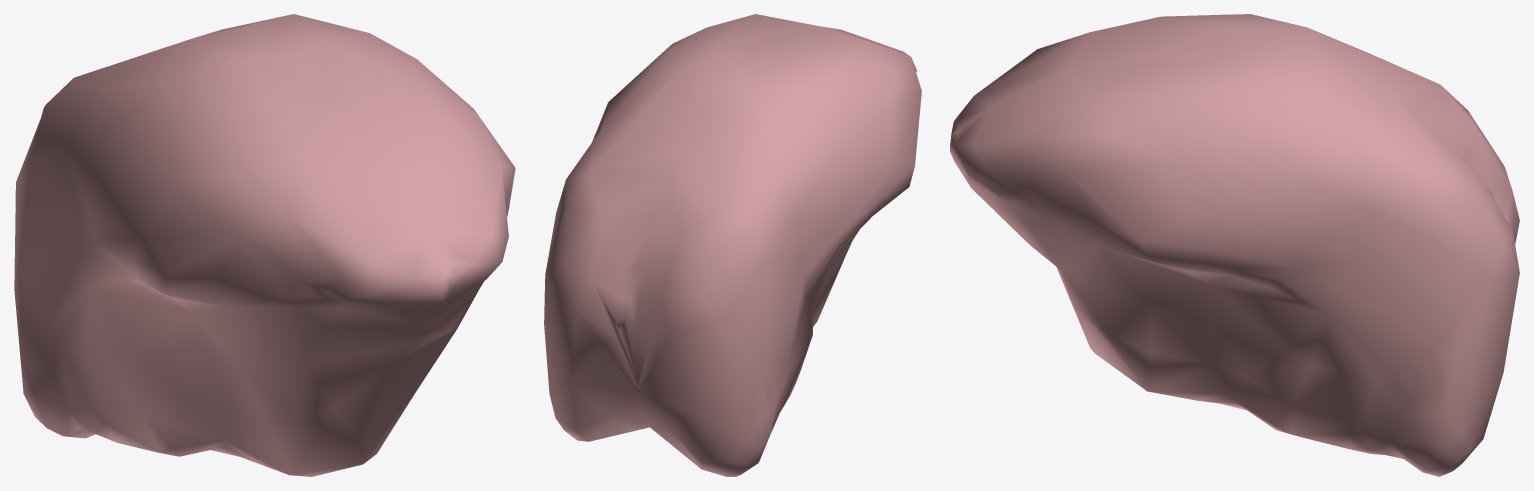
The picture shows the model from 3 angles, left to right: view 1: azimuth 30°, elevation 25°; view 2: azimuth 150°, elevation 25°; view 3: azimuth 270°, elevation 25°; orthographic projection. The views are drawn at different scales.
Parts seen in each view (by area): view 1: ZA_583338262d372979; view 2: ZA_583338262d372979; view 3: ZA_583338262d372979.
Part boxes in pixels (bbox=[...]): ZA_583338262d372979: bbox=[14, 14, 515, 476]; ZA_583338262d372979: bbox=[544, 14, 921, 476]; ZA_583338262d372979: bbox=[950, 14, 1519, 476].
Size of the model in its own units: 0.0337 by 0.0426 by 0.0563.
